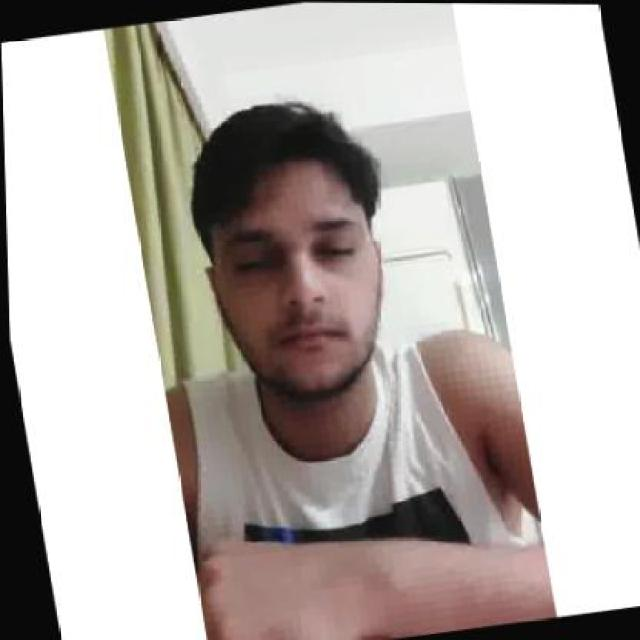inattentif: (174, 83, 403, 414)
